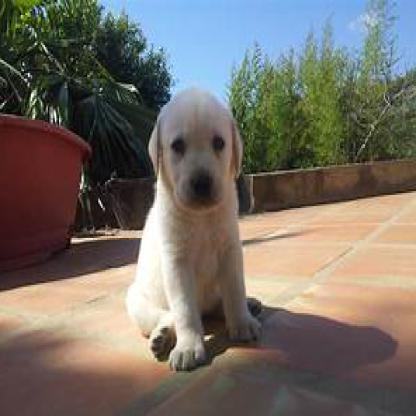dog: (127, 88, 264, 373)
